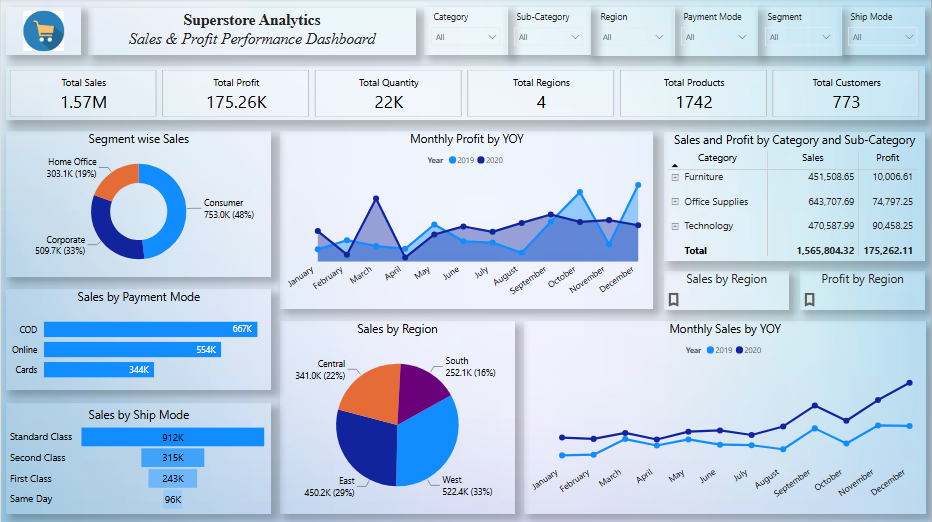

Layout of this report page (visuals, bound fields, positions):
{"tool":"powerbi","page":{"name":"Dashboard","canvas":[1280,720],"ordinal":0},"visuals":[{"type":"slicer","fields":{"Values":["Sheet1.Category"]},"box":[581.2,10.8,115,66.1],"z":0,"group":"g1"},{"type":"cardVisual","fields":{"Data":["Sum(Sheet1.Sales)","Sum(Sheet1.Profit)","Sum(Sheet1.Quantity)","Sheet1.Total Regions","Sheet1.Total Products","Sheet1.Total Customers"]},"box":[6.3,92.2,1265.4,75.2],"z":0,"group":"g2"},{"type":"slicer","fields":{"Values":["Sheet1.Region"]},"box":[811.2,10.7,115,66.5],"z":1000,"group":"g1"},{"type":"pieChart","title":"Sales by Region","fields":{"Y":["Sum(Sheet1.Sales)"],"Category":["Sheet1.Region"]},"box":[382.9,442.6,323.2,265.2],"z":1000,"group":"g2"},{"type":"slicer","fields":{"Values":["Sheet1.Payment Mode"]},"box":[926.2,10.7,115,66.5],"z":2000,"group":"g1"},{"type":"donutChart","title":"Segment wise Sales","fields":{"Y":["Sum(Sheet1.Sales)"],"Category":["Sheet1.Segment"]},"box":[6.3,180.8,365.4,200.6],"z":2000,"group":"g2"},{"type":"slicer","fields":{"Values":["Sheet1.Segment"]},"box":[1041.2,10.7,115,66.5],"z":3000,"group":"g1"},{"type":"barChart","title":"Sales by Payment Mode","fields":{"Category":["Sheet1.Payment Mode"],"Y":["Sum(Sheet1.Sales)"]},"box":[6.3,399.4,365.4,138.8],"z":3000,"group":"g2"},{"type":"slicer","fields":{"Values":["Sheet1.Ship Mode"]},"box":[1156,10.8,115,66.1],"z":4000,"group":"g1"},{"type":"lineChart","title":"Monthly Profit by YOY","fields":{"Category":["Sheet1.Order Date.Variation.Date Hierarchy.Month"],"Y":["Sum(Sheet1.Profit)"],"Series":["Sheet1.Order Date.Variation.Date Hierarchy.Year"]},"box":[384,182,514,245.4],"z":4000,"group":"g2"},{"type":"slicer","fields":{"Values":["Sheet1.Sub-Category"]},"box":[696.2,10.8,115,66.1],"z":5000,"group":"g1"},{"type":"lineChart","title":"Monthly Sales by YOY","fields":{"Category":["Sheet1.Order Date.Variation.Date Hierarchy.Month"],"Series":["Sheet1.Order Date.Variation.Date Hierarchy.Year"],"Y":["Sum(Sheet1.Sales)"]},"box":[718.8,442.6,553.1,265.2],"z":5000,"group":"g2"},{"type":"pivotTable","title":"Sales and Profit by Category and Sub-Category","fields":{"Rows":["Sheet1.Category","Sheet1.Category Hierarchy.Sub-Category"],"Values":["Sum(Sheet1.Sales)","Sum(Sheet1.Profit)"]},"box":[911.5,182.5,359.4,178],"z":6000,"group":"g2"},{"type":"funnel","title":"Sales by Ship Mode","fields":{"Category":["Sheet1.Ship Mode"],"Y":["Sum(Sheet1.Sales)"]},"box":[6.3,555.2,365.4,153.1],"z":7000,"group":"g2"},{"type":"actionButton","title":"Sales by Region","box":[911.6,374.7,172,52.5],"z":8000,"group":"g2"},{"type":"textbox","box":[118.9,11.8,451.3,65.4],"z":9000,"group":"g1"},{"type":"actionButton","title":"Profit by Region","box":[1099,374.7,172,52.5],"z":9000,"group":"g2"},{"type":"group","id":"g1","title":"Group 1","box":[6.4,10.7,1264.6,66.5],"z":10000,"group":"g2"},{"type":"image","box":[6.4,10.8,103.2,66.1],"z":10000,"group":"g1"},{"type":"group","id":"g2","title":"Group 2","box":[6.3,10.7,1265.6,697.6],"z":11002}]}

Visuals, with their boxes in screenshot pixels (x1, y1, x2, y2), scaled from the page's 1280x720 canvas onto the 932x522 screenshot:
slicer - Sheet1.Category: box(423, 8, 507, 56)
cardVisual - Sum(Sheet1.Sales) x Sum(Sheet1.Profit): box(5, 67, 926, 121)
slicer - Sheet1.Region: box(591, 8, 674, 56)
"Sales by Region" pieChart: box(279, 321, 514, 513)
slicer - Sheet1.Payment Mode: box(674, 8, 758, 56)
"Segment wise Sales" donutChart: box(5, 131, 271, 277)
slicer - Sheet1.Segment: box(758, 8, 842, 56)
"Sales by Payment Mode" barChart: box(5, 290, 271, 390)
slicer - Sheet1.Ship Mode: box(842, 8, 925, 56)
"Monthly Profit by YOY" lineChart: box(280, 132, 654, 310)
slicer - Sheet1.Sub-Category: box(507, 8, 591, 56)
"Monthly Sales by YOY" lineChart: box(523, 321, 926, 513)
"Sales and Profit by Category and Sub-Category" pivotTable: box(664, 132, 925, 261)
"Sales by Ship Mode" funnel: box(5, 403, 271, 514)
"Sales by Region" actionButton: box(664, 272, 789, 310)
textbox: box(87, 9, 415, 56)
"Profit by Region" actionButton: box(800, 272, 925, 310)
"Group 1" group: box(5, 8, 925, 56)
image: box(5, 8, 80, 56)
"Group 2" group: box(5, 8, 926, 514)
